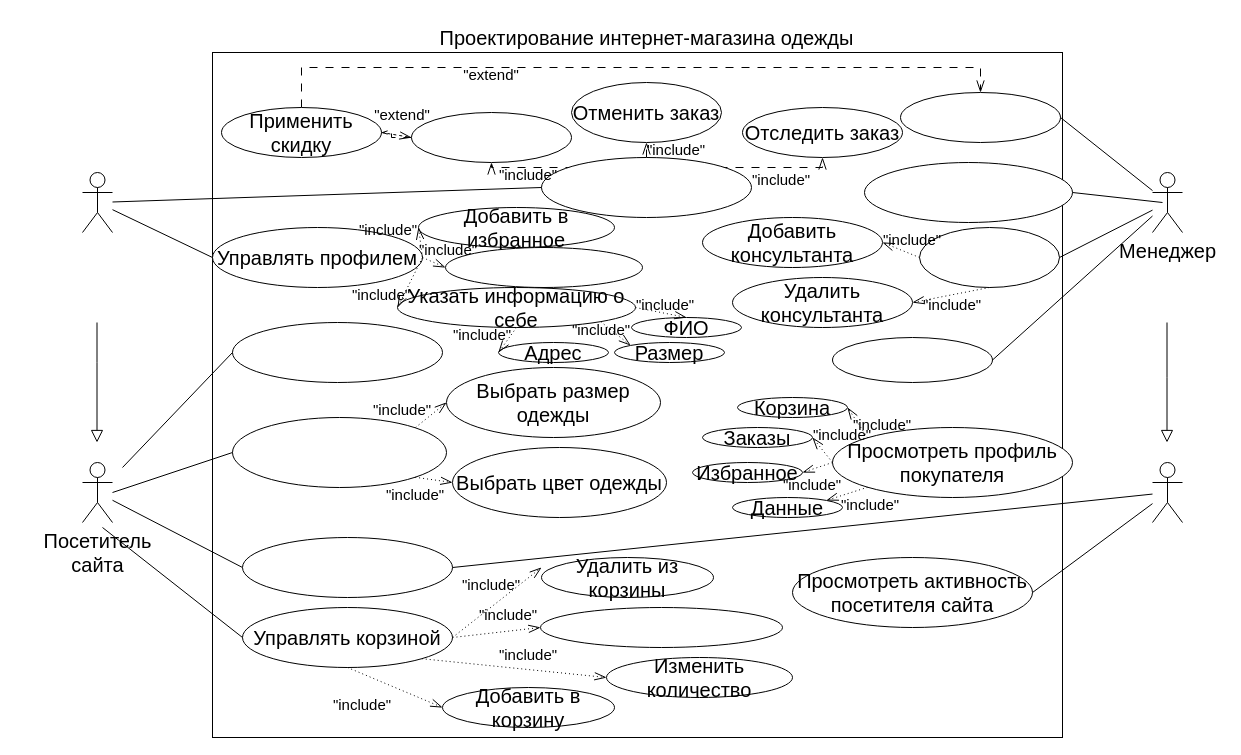
The diagram is 1241 pixels wide and 755 high, and some of its shapes have lost their labels. Each missing label, with the centre of its shape:
"Выдать скидку" belongs at [980,117].
"Задать вопрос консультанту" belongs at [347,567].
"Изменить выбранный цвет/размер" belongs at [661,627].
"Искать по сайту" belongs at [337,352].
"Консультант" belongs at [1167,492].
"Отправить счёт" belongs at [912,359].
"Оформить заказ" belongs at [491,137].
"Подтвердить,отменить заказ" belongs at [968,192].
"Покупатель (авторизованный пользователь)" belongs at [97,202].
"Посмотреть карточку товара" belongs at [339,452].
"Удалить из избранного" belongs at [543,267].
"Управлять заказом" belongs at [646,187].
"Управлять персоналом" belongs at [989,257].
